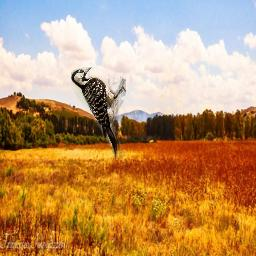Woodpecker: (71, 67, 126, 159)
